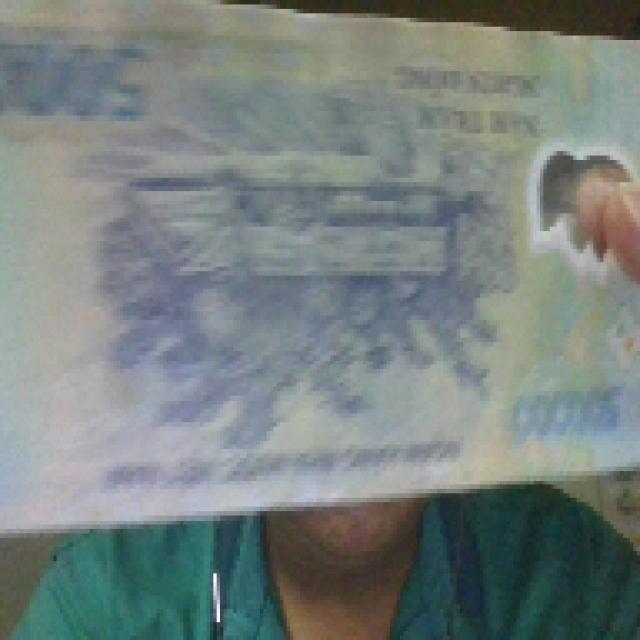500 000 VND: (0, 0, 636, 533)
